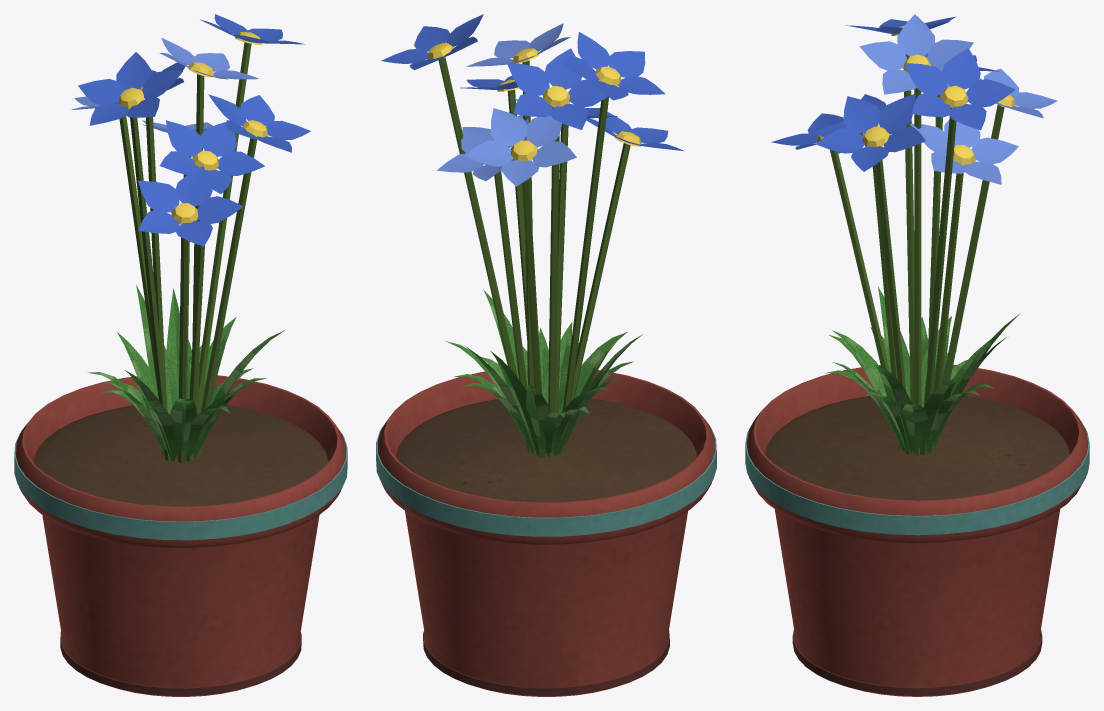
Rendered from potted_blue_flower.glb.
3 views of the same model, side by side, from view 1: azimuth 30°, elevation 25°; view 2: azimuth 150°, elevation 25°; view 3: azimuth 270°, elevation 25° (orthographic). The views are drawn at different scales.
Parts seen in each view (by area): view 1: PottedBlueFlowerBody; view 2: PottedBlueFlowerBody; view 3: PottedBlueFlowerBody.
Part boxes in pixels (box(x1,y1,x2,y2)): PottedBlueFlowerBody: box(14, 14, 347, 696); PottedBlueFlowerBody: box(376, 14, 716, 696); PottedBlueFlowerBody: box(745, 14, 1089, 696).
Bounding box in the file's own units: 0.2174 × 0.4331 × 0.2174.
Materials: 10 (4 with a texture image).
